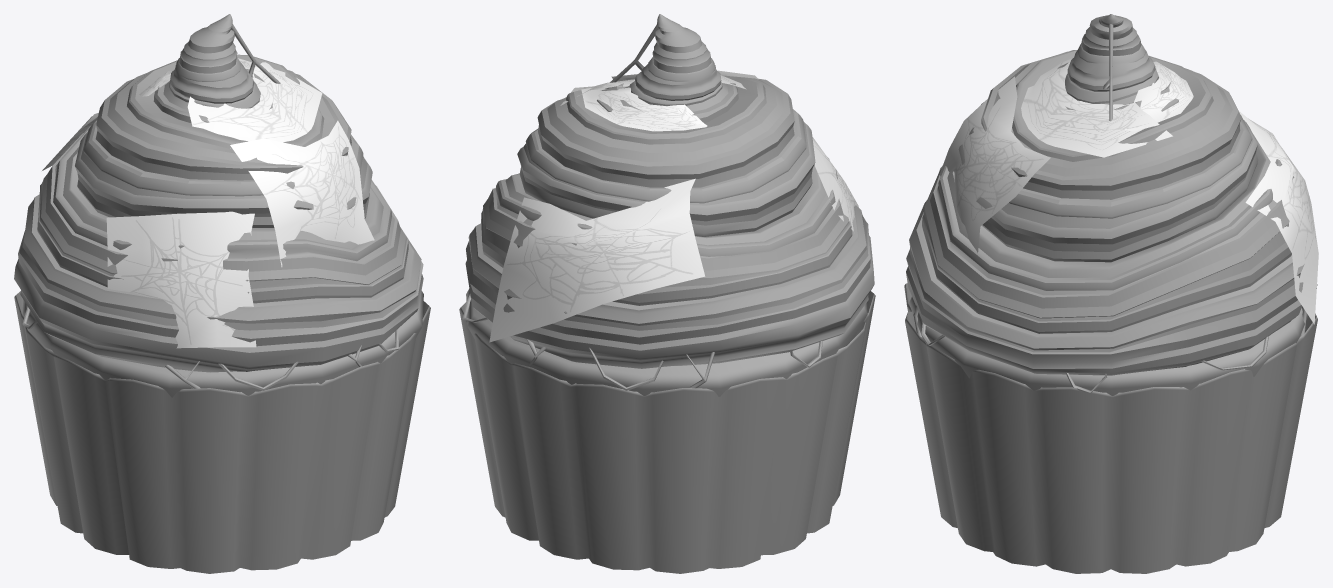
File: Webcupcake.fbx
The picture shows the model from 3 angles, left to right: view 1: azimuth 30°, elevation 25°; view 2: azimuth 150°, elevation 25°; view 3: azimuth 270°, elevation 25°; orthographic projection.
Visible parts, largest first — view 1: top1, wrapping, webs3, webs7, muffin, webs4, webspoly; view 2: top1, wrapping, webs6, muffin, webs5, webspoly, webs3; view 3: top1, wrapping, webs7, muffin, webs4, webs6, webs5, webspoly.
Boxes of the visible parts, x1=… form: top1: x1=14, y1=14, x2=423, y2=372; wrapping: x1=14, y1=291, x2=430, y2=573; webs3: x1=106, y1=211, x2=256, y2=348; webs7: x1=230, y1=120, x2=374, y2=267; muffin: x1=22, y1=291, x2=423, y2=397; webs4: x1=187, y1=62, x2=322, y2=148; webspoly: x1=22, y1=24, x2=398, y2=390; top1: x1=465, y1=14, x2=874, y2=368; wrapping: x1=459, y1=291, x2=875, y2=573; webs6: x1=489, y1=178, x2=705, y2=342; muffin: x1=466, y1=289, x2=867, y2=396; webs5: x1=581, y1=87, x2=707, y2=131; webspoly: x1=462, y1=24, x2=822, y2=390; webs3: x1=812, y1=137, x2=858, y2=231; top1: x1=906, y1=14, x2=1315, y2=375; wrapping: x1=904, y1=283, x2=1317, y2=573; webs7: x1=937, y1=76, x2=1050, y2=252; muffin: x1=909, y1=296, x2=1308, y2=395; webs4: x1=1021, y1=57, x2=1172, y2=157; webs6: x1=1238, y1=110, x2=1318, y2=324; webs5: x1=1125, y1=61, x2=1193, y2=131; webspoly: x1=913, y1=24, x2=1306, y2=393.
Bounding box in the file's own units: 12.99 × 16.61 × 12.69.
